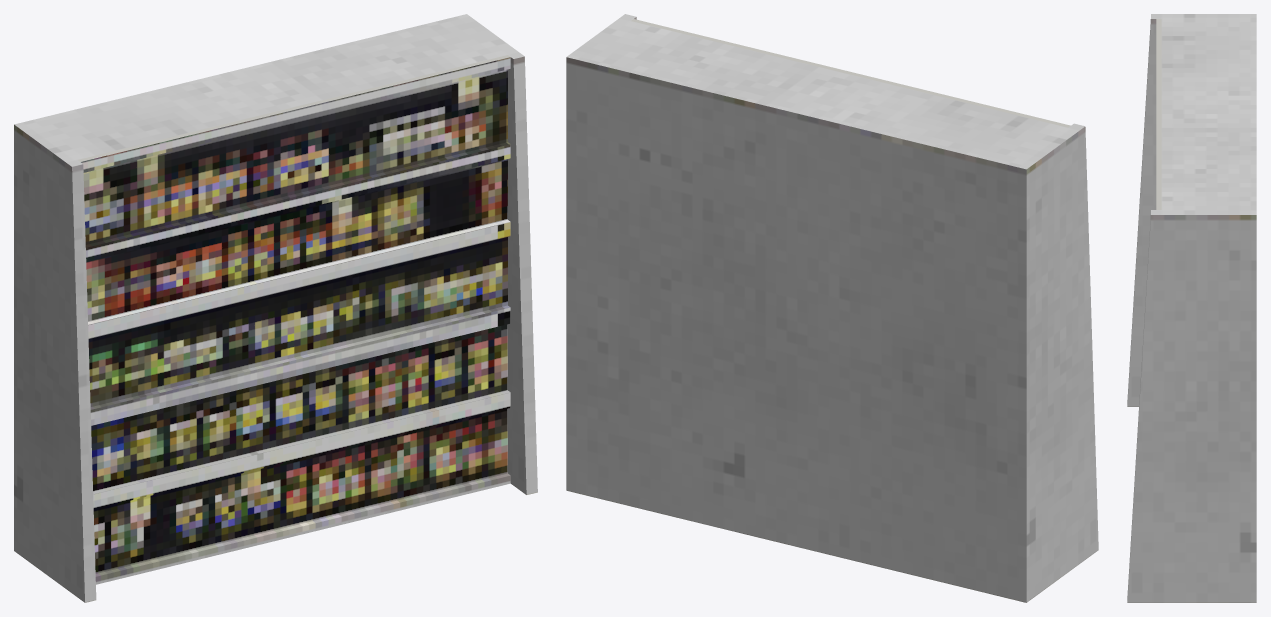
File: Estante_Conservas.fbx
3 views of the same model, side by side, from view 1: azimuth 30°, elevation 25°; view 2: azimuth 150°, elevation 25°; view 3: azimuth 270°, elevation 25° (orthographic). The views are drawn at different scales.
Visible parts, largest first — view 1: Estante_Conservas; view 2: Estante_Conservas; view 3: Estante_Conservas.
Boxes of the visible parts, x1,y1,x2,y2 form: Estante_Conservas: (14, 14, 537, 602); Estante_Conservas: (566, 14, 1098, 602); Estante_Conservas: (1127, 14, 1256, 602).
Bounding box in the file's own units: 200 × 180 × 54.36.
1 material, 1 textured.
